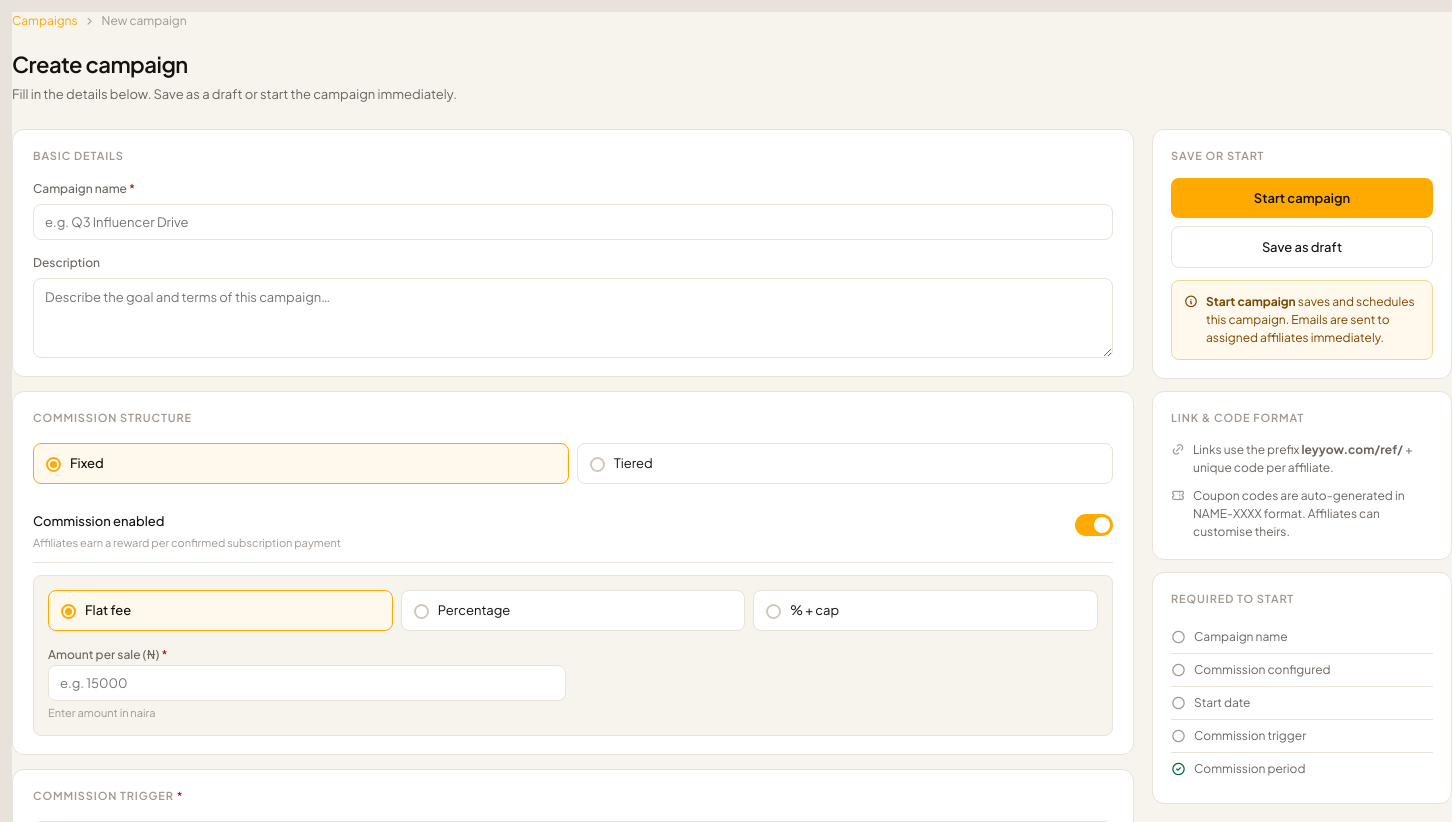
it: fixed — commission type › cap field appears when percentage_capped is selected
Click the element with class "radio-opt" showing "% + cap": (926, 611) [753, 590, 1098, 631]
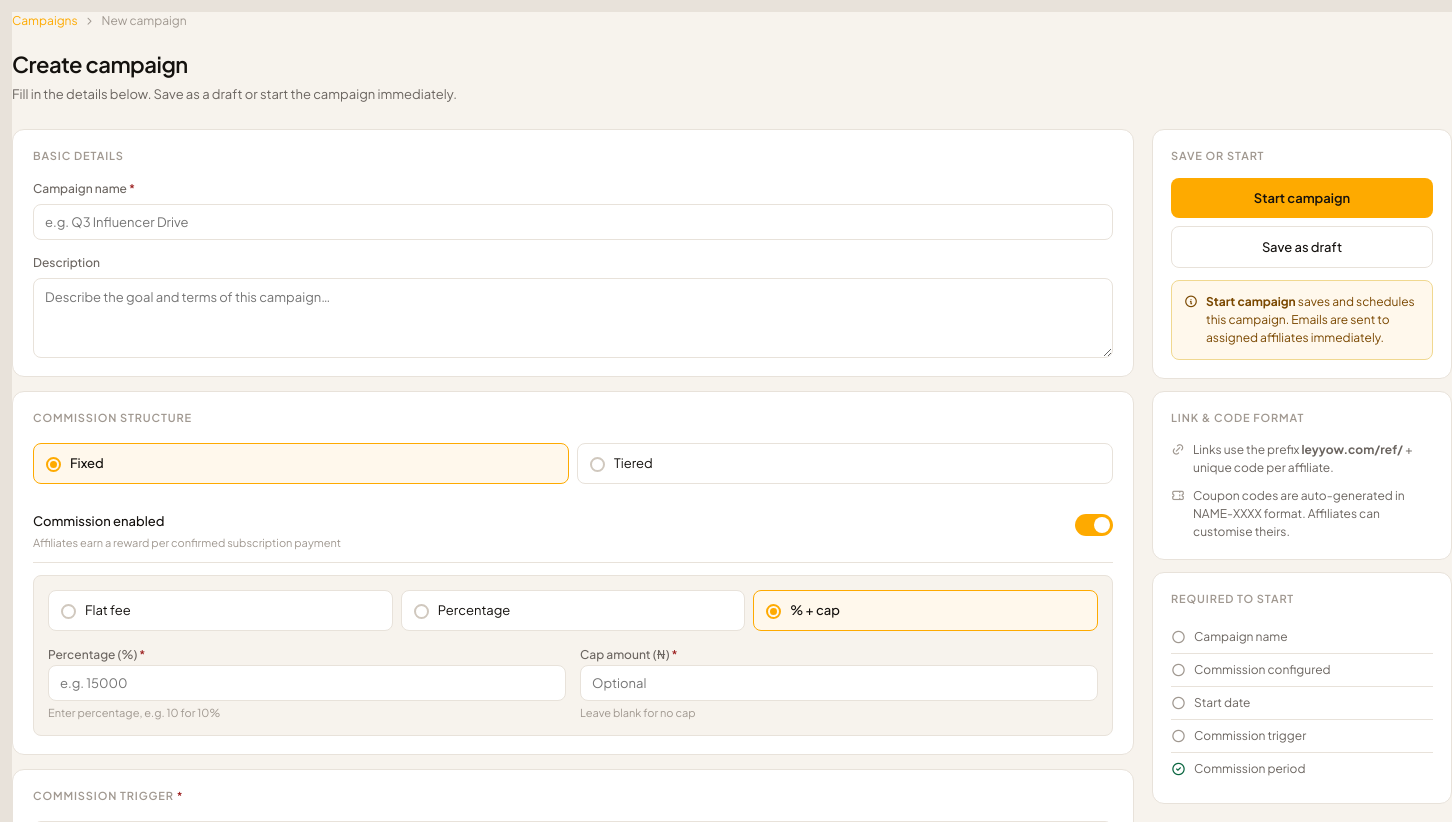
Now the number field with placeholder "Optional" is shown, box [580, 665, 1098, 701]
